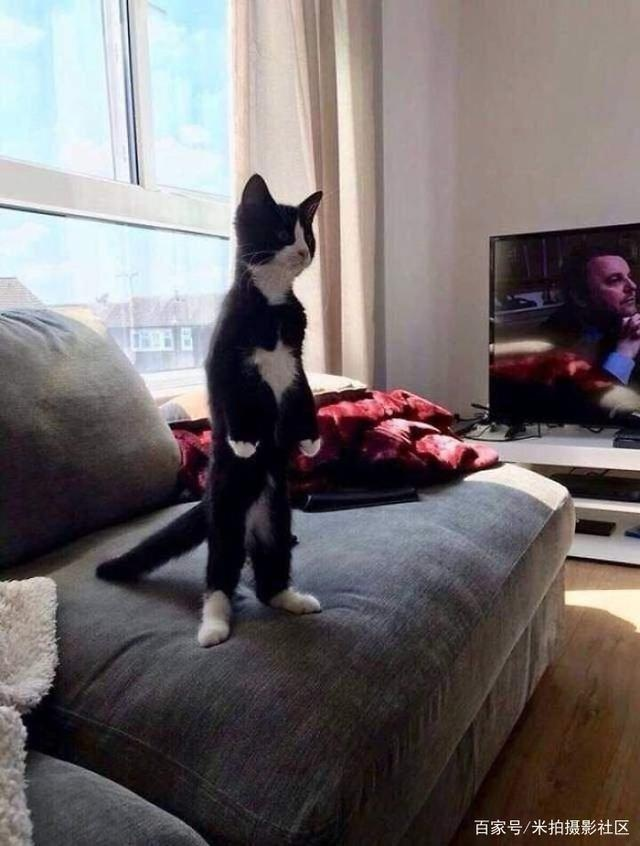cat: (95, 175, 322, 648)
